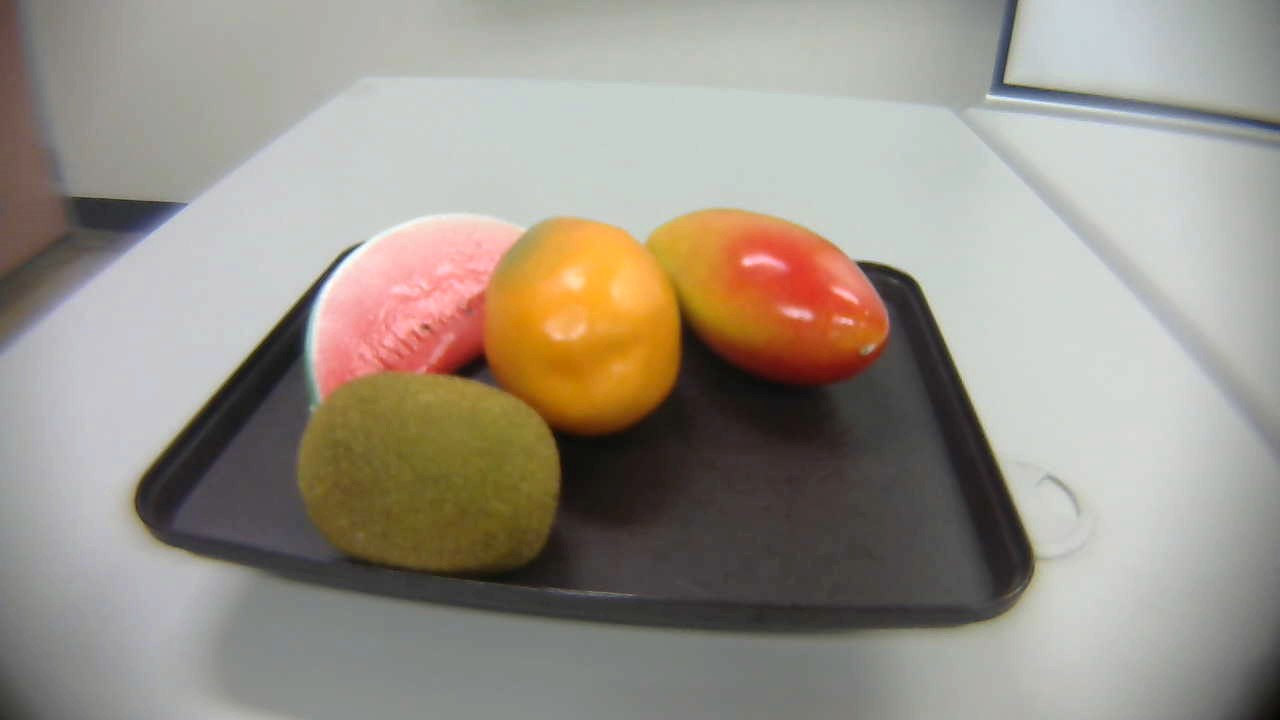kiwi fruit: (274, 364, 583, 596)
papya: (476, 210, 690, 435)
red mango: (612, 198, 903, 405)
water melon: (293, 205, 540, 412)
